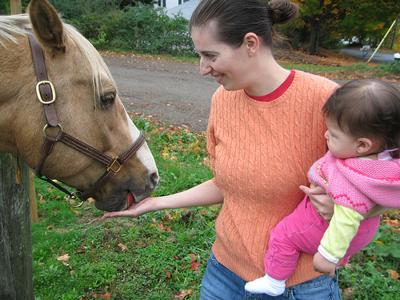person: (102, 2, 394, 300)
